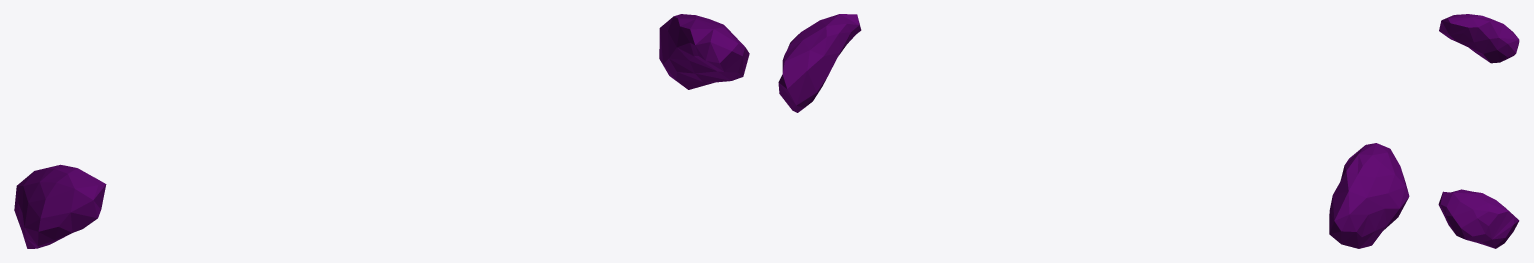
Rendered from 50-CeL-central amygdaloid nucleus, lateral division-('0.4196', '0.0000', '0.4980').obj.
3 views of the same model, side by side, from view 1: azimuth 30°, elevation 25°; view 2: azimuth 150°, elevation 25°; view 3: azimuth 270°, elevation 25° (orthographic). The views are drawn at different scales.
Size of the model in its own units: 144 by 17.52 by 24.32.
